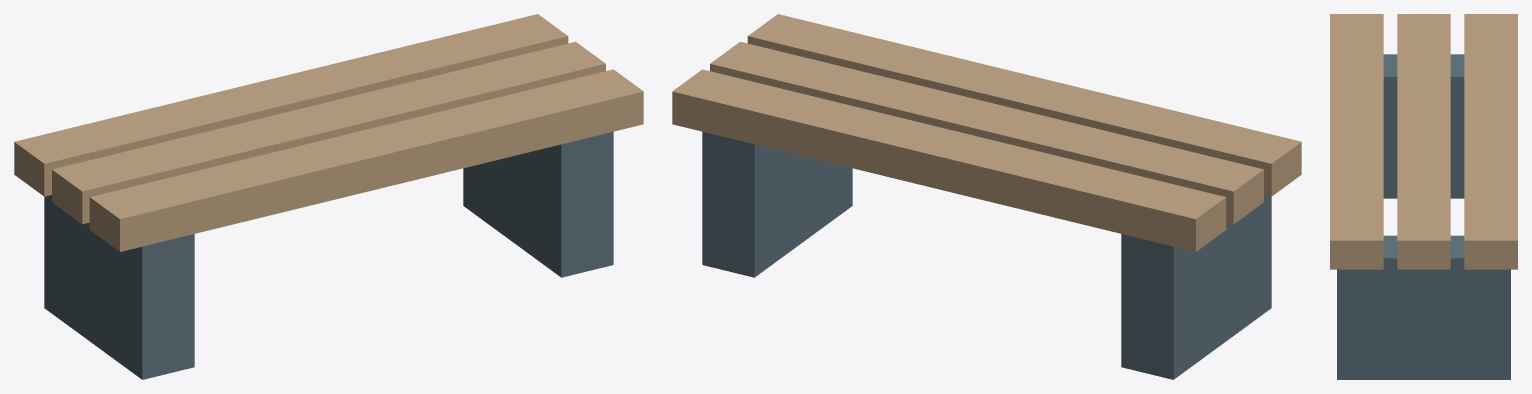
File: voxel-city-districts-backless-bench-ebc8c4f5__24853.glb
The picture shows the model from 3 angles, left to right: view 1: azimuth 30°, elevation 25°; view 2: azimuth 150°, elevation 25°; view 3: azimuth 270°, elevation 25°; orthographic projection. The views are drawn at different scales.
Parts seen in each view (by area): view 1: backless-bench-wood, backless-bench-dark; view 2: backless-bench-wood, backless-bench-dark; view 3: backless-bench-wood, backless-bench-dark.
Boxes of the visible parts, <box> form: backless-bench-wood: <box>14,14,643,251</box>; backless-bench-dark: <box>44,131,613,379</box>; backless-bench-wood: <box>672,14,1301,251</box>; backless-bench-dark: <box>702,131,1271,379</box>; backless-bench-wood: <box>1330,14,1517,269</box>; backless-bench-dark: <box>1337,54,1510,379</box>.
Bounding box in the file's own units: 2 × 0.6199 × 0.7.
